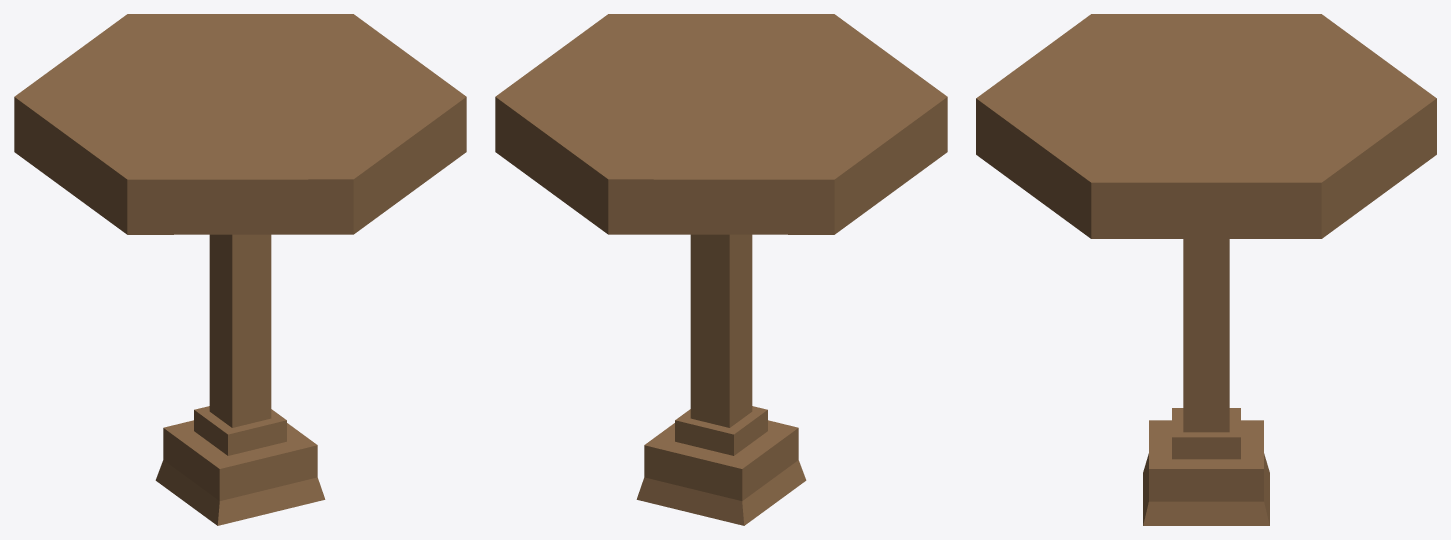
File: outdoor-table.glb
3 views of the same model, side by side, from view 1: azimuth 30°, elevation 25°; view 2: azimuth 150°, elevation 25°; view 3: azimuth 270°, elevation 25° (orthographic).
Visible parts, largest first — view 1: outdoor-table; view 2: outdoor-table; view 3: outdoor-table.
Boxes of the visible parts, left/top/right/bottom form: outdoor-table: left=14, top=14, right=466, bottom=525; outdoor-table: left=495, top=14, right=947, bottom=525; outdoor-table: left=976, top=14, right=1436, bottom=525.
Bounding box in the file's own units: 0.65 × 0.72 × 0.75.
